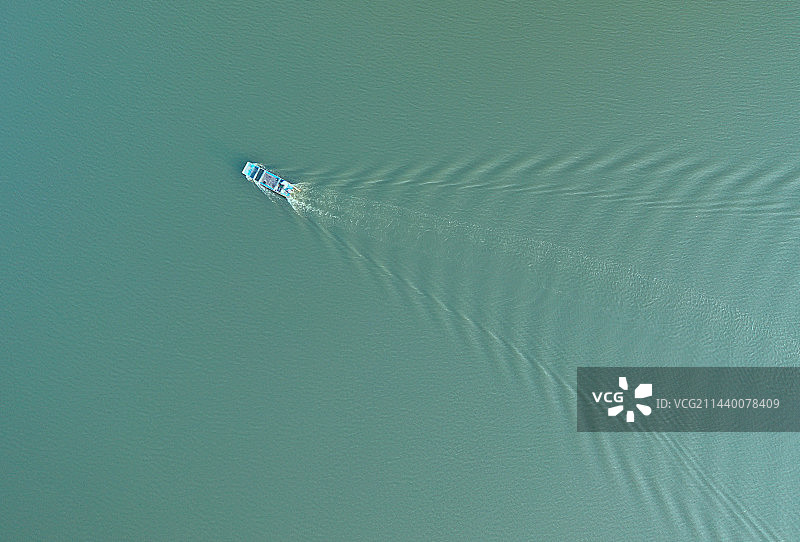ship: (242, 143, 324, 218)
